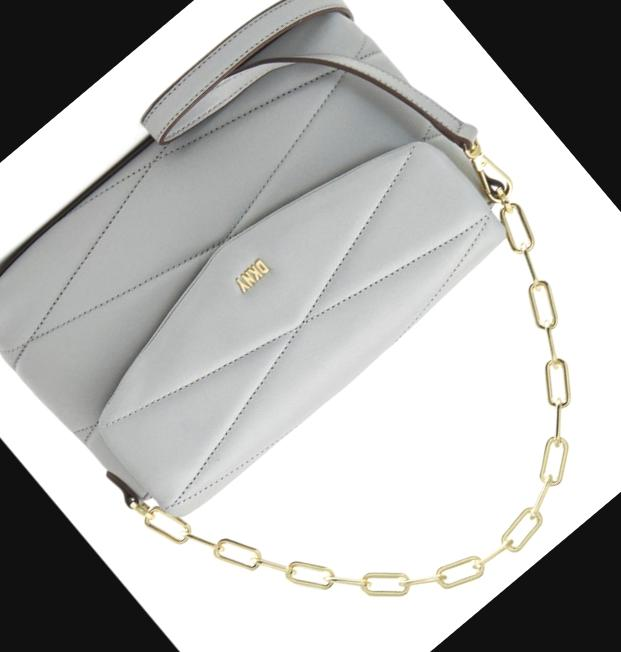DKNY: (231, 258, 269, 294)
